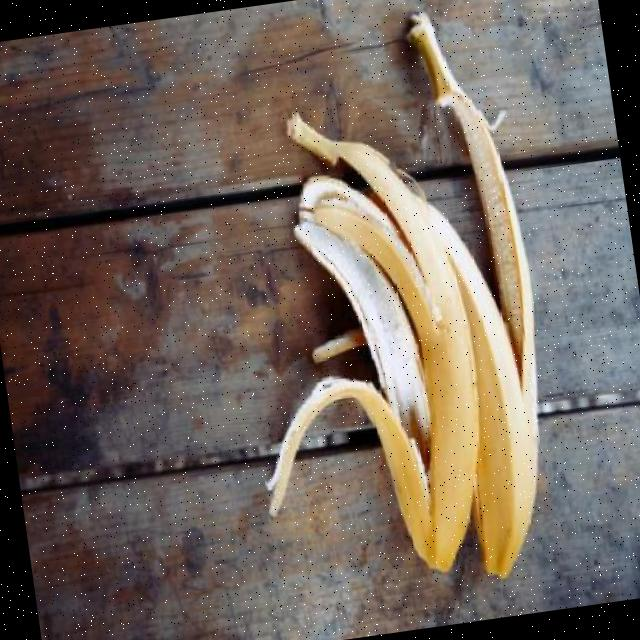banana-peel: (200, 0, 574, 609)
